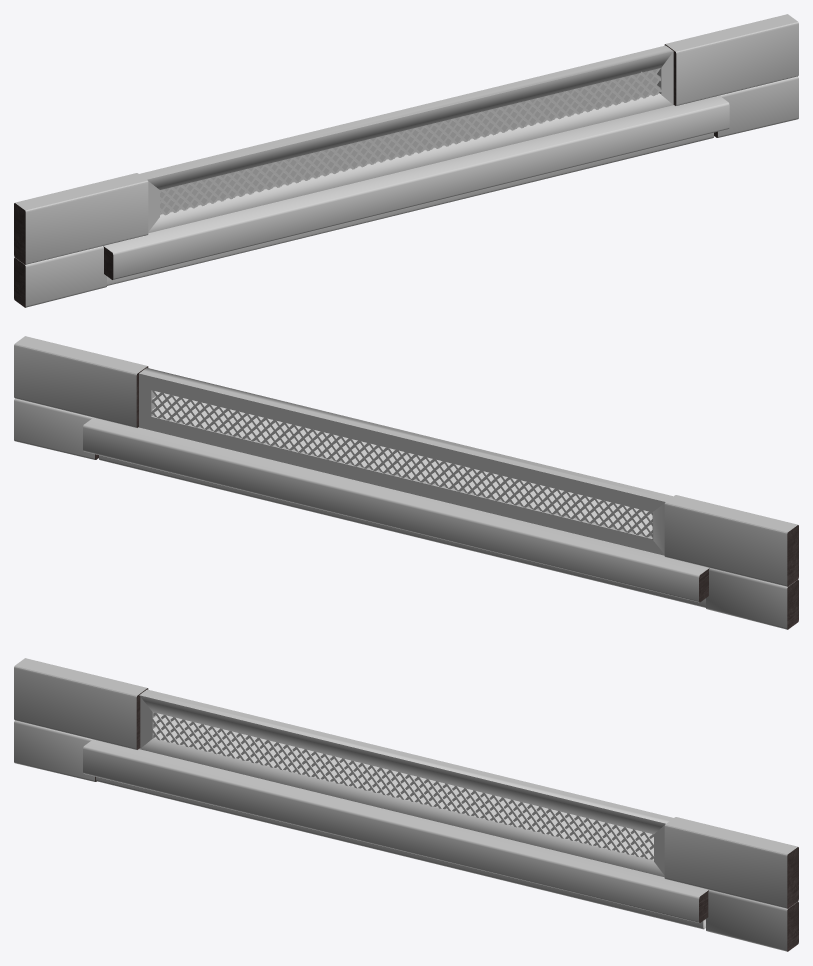
Rendered from SM_Roof_Foundation_17.FBX.
The picture shows the model from 3 angles, top to bottom: view 1: azimuth 30°, elevation 25°; view 2: azimuth 150°, elevation 25°; view 3: azimuth 330°, elevation 25°; orthographic projection.
Visible parts, largest first — view 1: SM_Roof_Foundation_17; view 2: SM_Roof_Foundation_17; view 3: SM_Roof_Foundation_17.
Boxes of the visible parts, bbox=[...] form: SM_Roof_Foundation_17: bbox=[14, 14, 798, 307]; SM_Roof_Foundation_17: bbox=[14, 336, 798, 629]; SM_Roof_Foundation_17: bbox=[14, 658, 798, 951].
Bounding box in the file's own units: 757 × 91.12 × 52.41.
